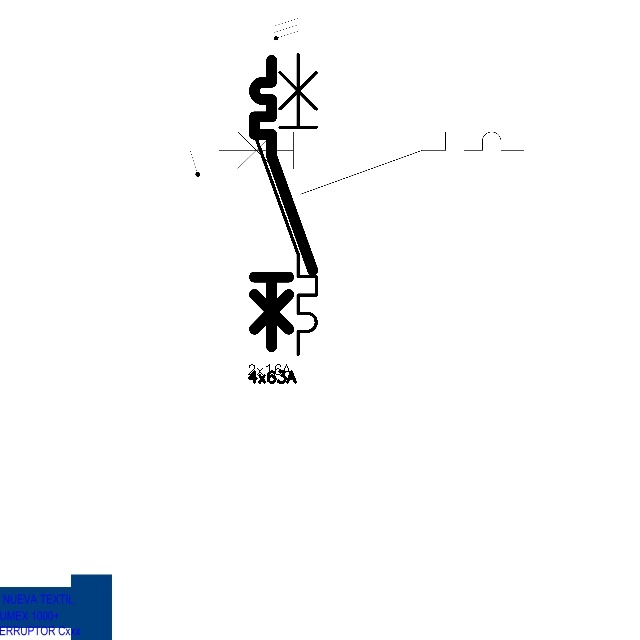interruptor_termomagnetico: (211, 124, 532, 202), (247, 46, 324, 362), (247, 53, 320, 354)
